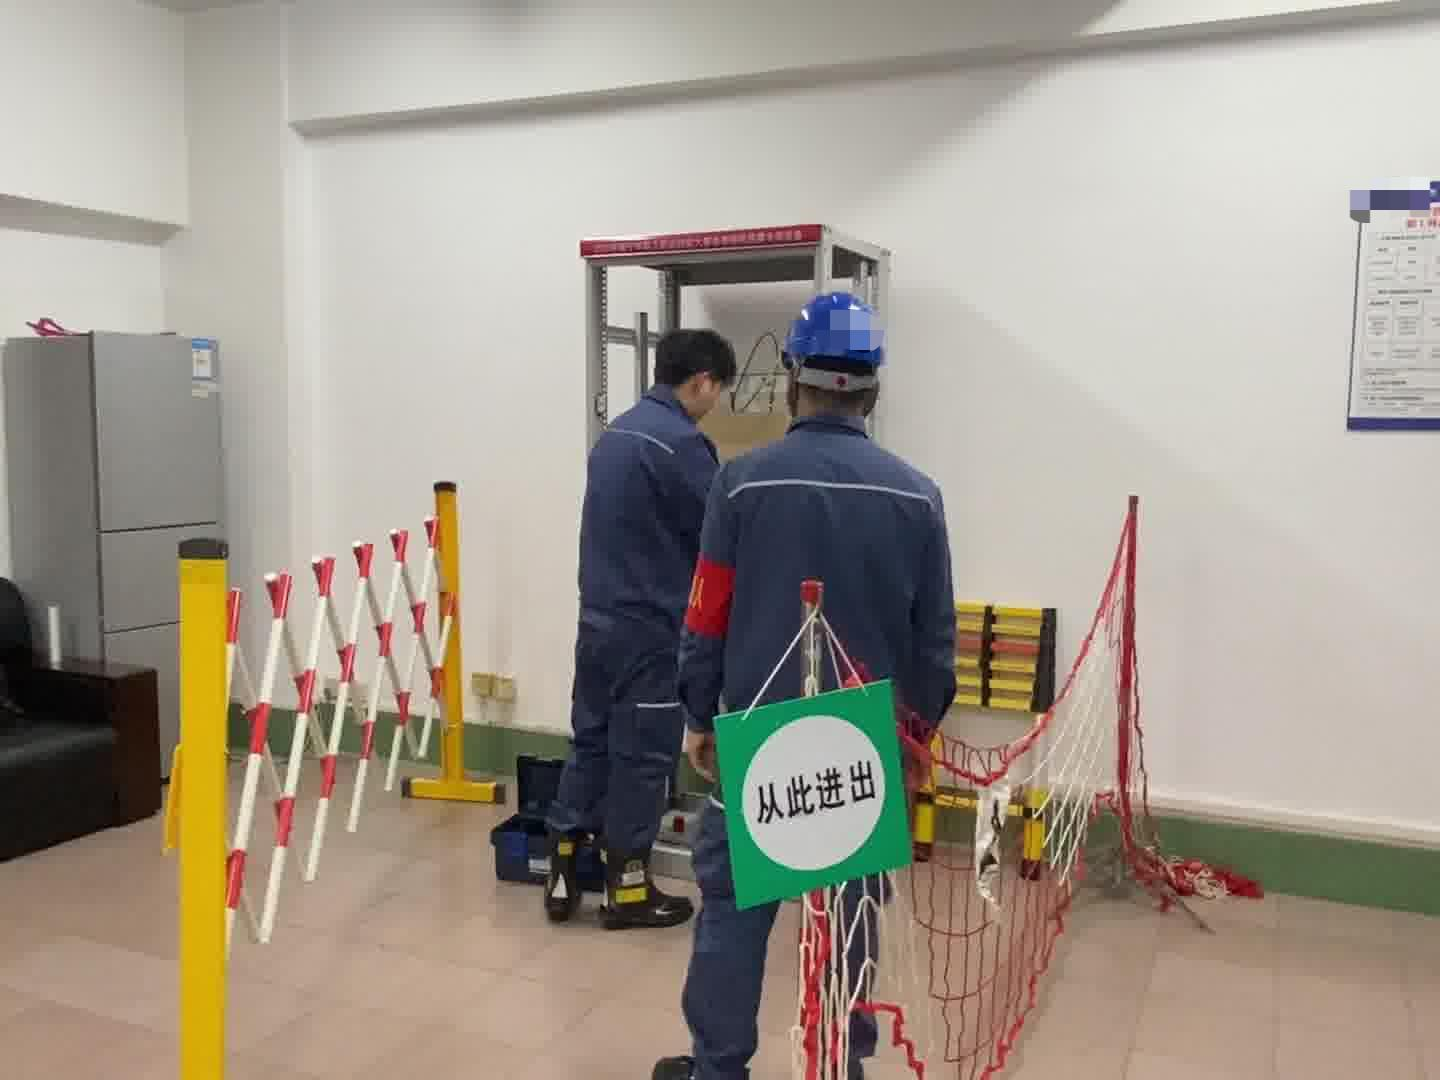halt: (781, 293, 893, 423)
noear: (685, 368, 721, 413)
unhalt: (657, 331, 742, 417)
